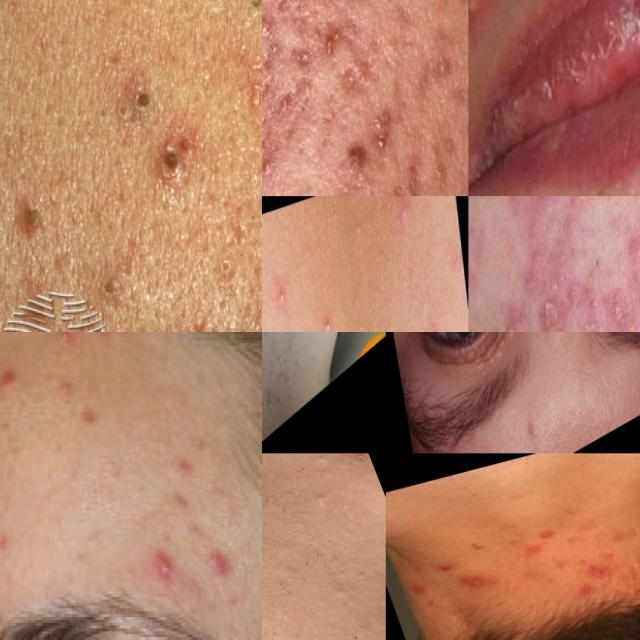acne_scars: (411, 45, 460, 87), (388, 161, 436, 196)
comedone: (505, 566, 559, 601), (262, 144, 289, 195), (158, 140, 188, 182), (414, 297, 450, 332), (313, 298, 344, 332), (130, 89, 156, 123), (394, 196, 418, 230), (272, 275, 293, 311), (623, 551, 640, 581)
papule: (564, 552, 632, 610), (616, 201, 640, 275), (459, 571, 494, 596), (535, 523, 561, 544), (520, 541, 547, 561), (279, 0, 309, 17), (437, 559, 461, 575)
pustule: (468, 0, 499, 25), (262, 5, 277, 54)
sebo-crystan-conglo: (354, 100, 406, 168), (498, 297, 536, 332)
syringoma: (466, 341, 504, 383), (491, 332, 527, 353)
